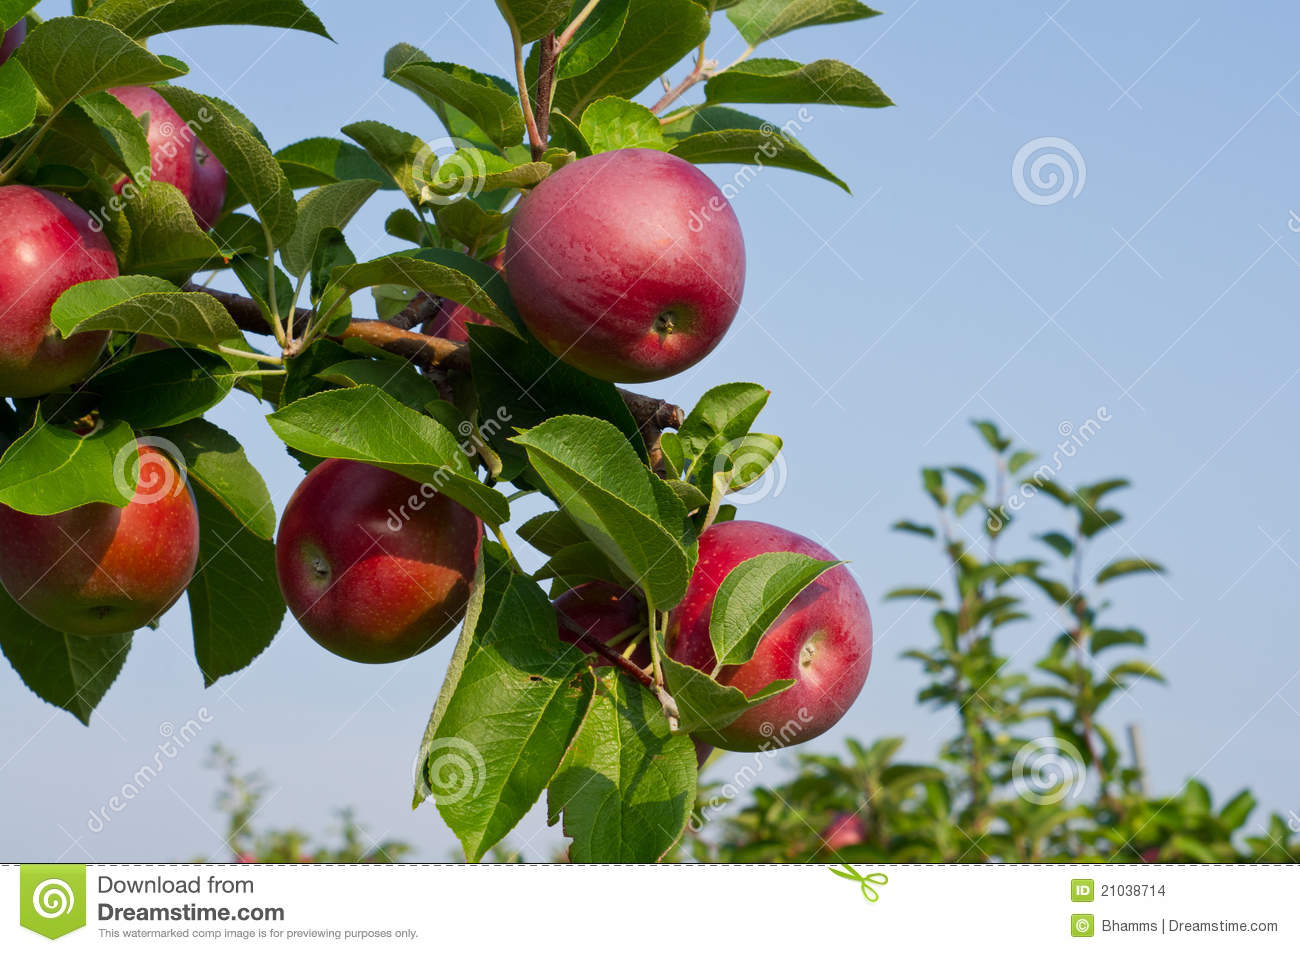apple: (502, 147, 744, 383), (275, 453, 481, 664)
obscured(1)_apple: (1, 420, 199, 632)
obscured(2)_apple: (648, 522, 874, 752), (1, 174, 122, 390)
obscured(3)_apple: (81, 82, 223, 237)
